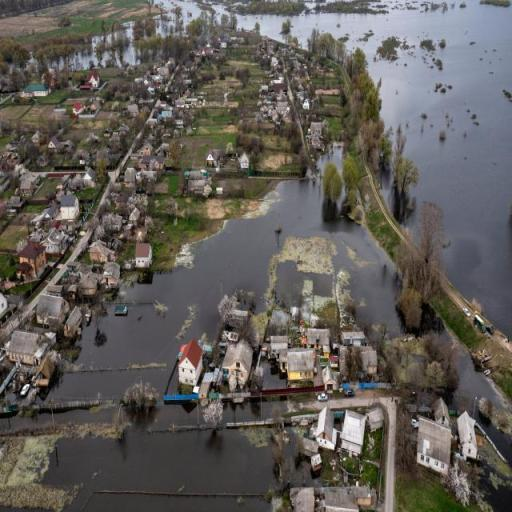flood: (239, 0, 512, 337), (48, 181, 402, 400), (45, 406, 275, 512), (458, 350, 502, 408), (279, 264, 330, 306), (0, 415, 52, 432), (54, 410, 113, 424), (159, 0, 200, 20), (224, 402, 261, 424), (262, 400, 286, 418), (217, 7, 223, 11)
house: (418, 414, 452, 476), (456, 407, 482, 468), (176, 338, 204, 393), (284, 345, 320, 384), (342, 408, 368, 461), (224, 339, 254, 384), (7, 328, 43, 363), (20, 240, 48, 279), (316, 406, 339, 448), (32, 352, 59, 387), (31, 292, 63, 321), (323, 489, 362, 512), (287, 482, 319, 510), (63, 305, 87, 340), (44, 229, 69, 258), (56, 193, 78, 223), (130, 240, 152, 270), (99, 262, 121, 291), (430, 397, 454, 423), (88, 239, 110, 263), (79, 272, 99, 298), (22, 81, 48, 99), (268, 332, 290, 350), (340, 331, 366, 346), (204, 150, 222, 170), (85, 70, 101, 88), (0, 288, 8, 321), (82, 168, 95, 186), (239, 151, 250, 171), (138, 142, 153, 156), (71, 101, 85, 115)
